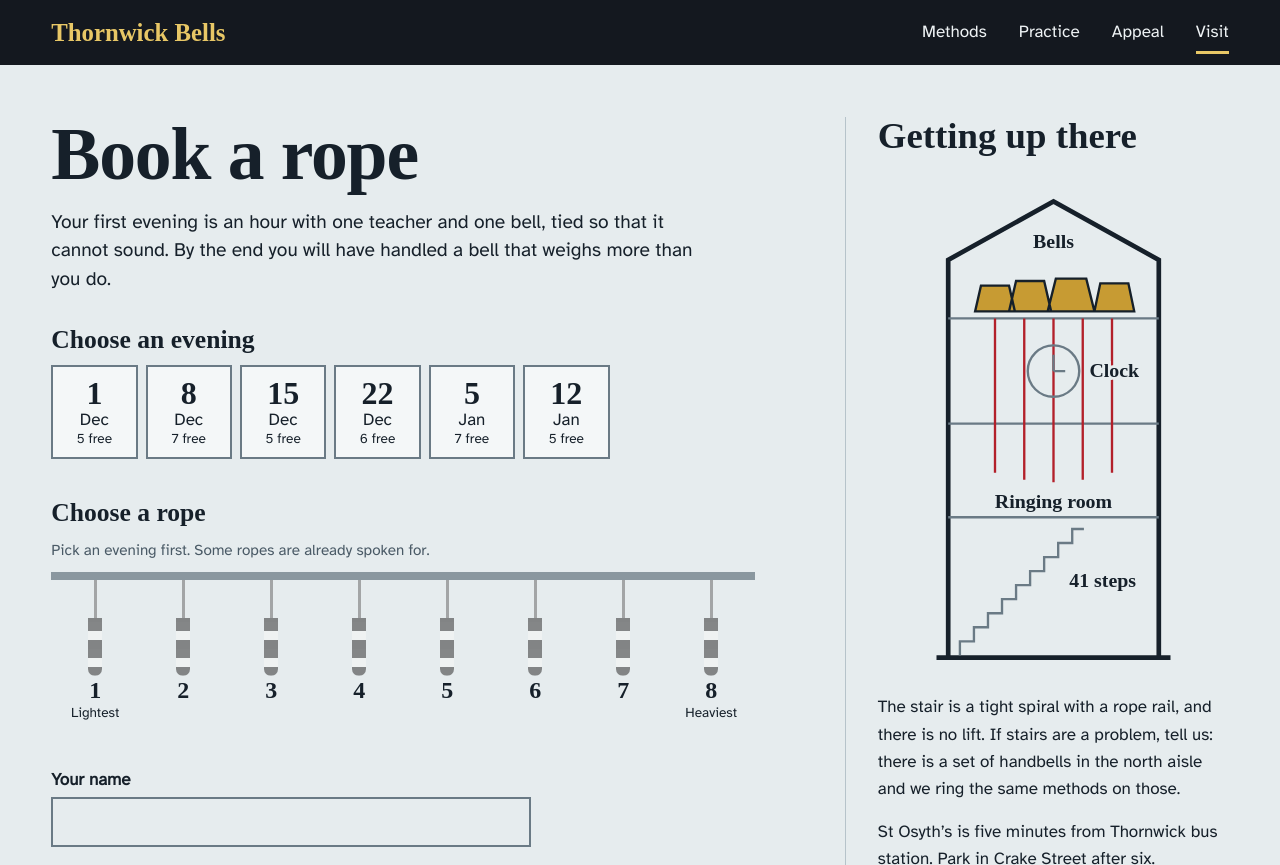
Scenario: booking › waits for an evening before offering ropes
The image size is (1280, 865).
Expected: the element "Choose a rope" is disabled, x1=51 y1=499 x2=755 y2=734
Step 1. Click the radio button labelled "1 Dec 5 free" → (94, 412), box x1=51 y1=365 x2=138 y2=459
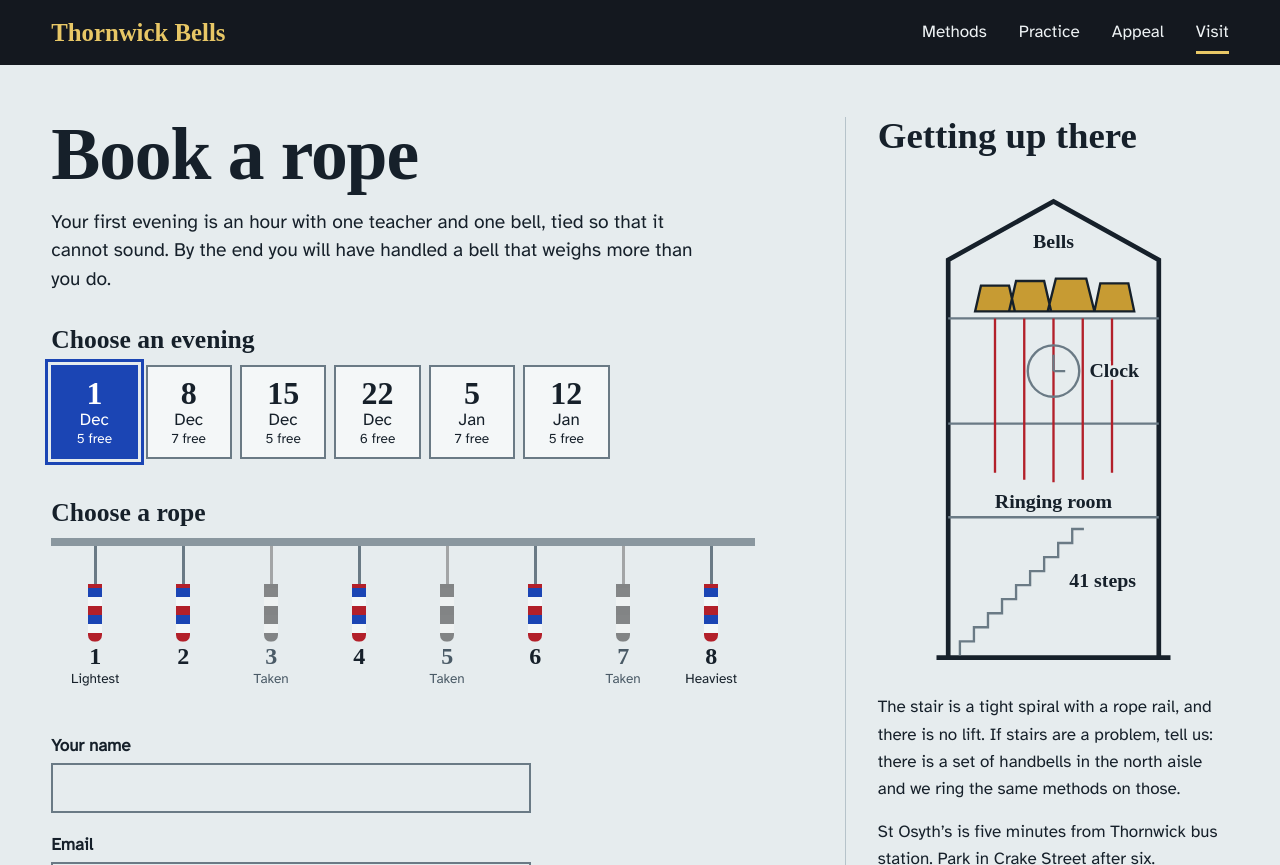
Now the element "Choose a rope" is enabled, box x1=51 y1=499 x2=755 y2=700
